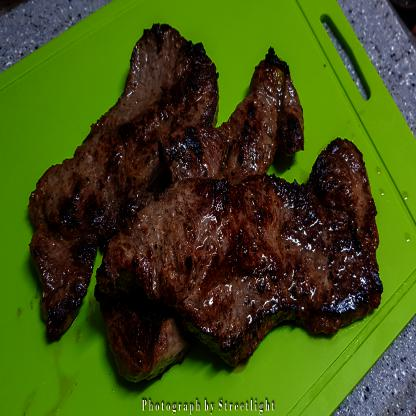Carne: (91, 47, 304, 374), (28, 9, 214, 342), (106, 191, 390, 344)
